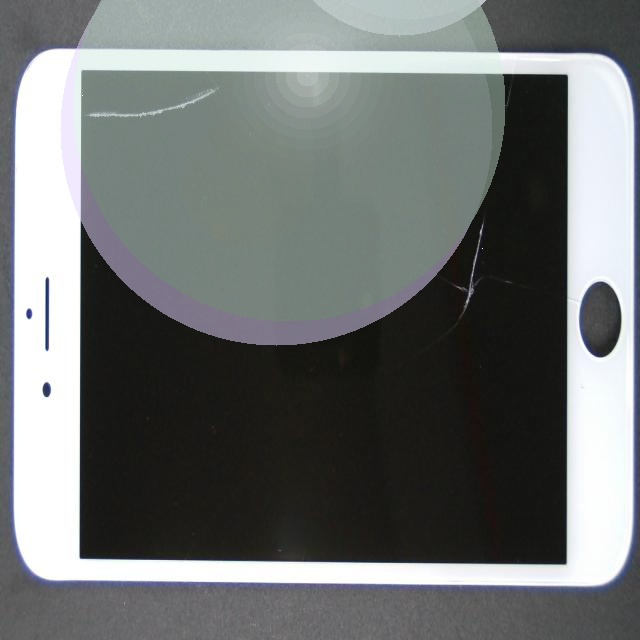scratch: (229, 165, 640, 496), (39, 68, 124, 204)
